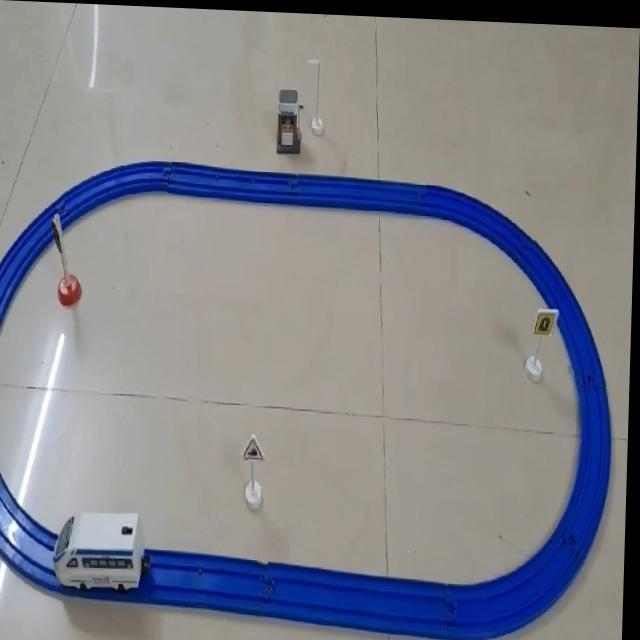bus: (56, 506, 154, 592)
